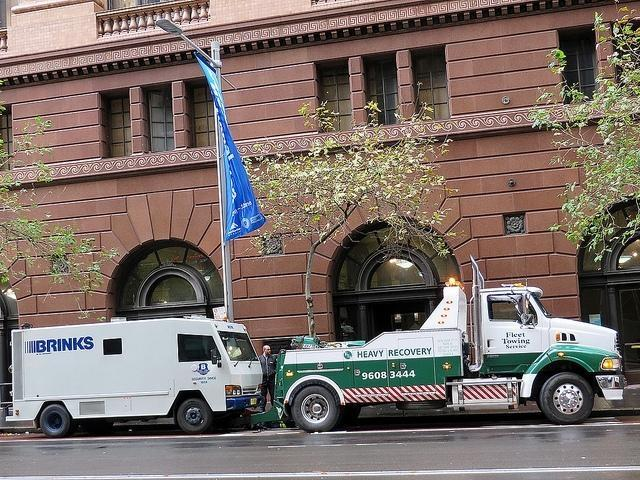truck: (280, 258, 636, 432), (6, 317, 270, 438)
